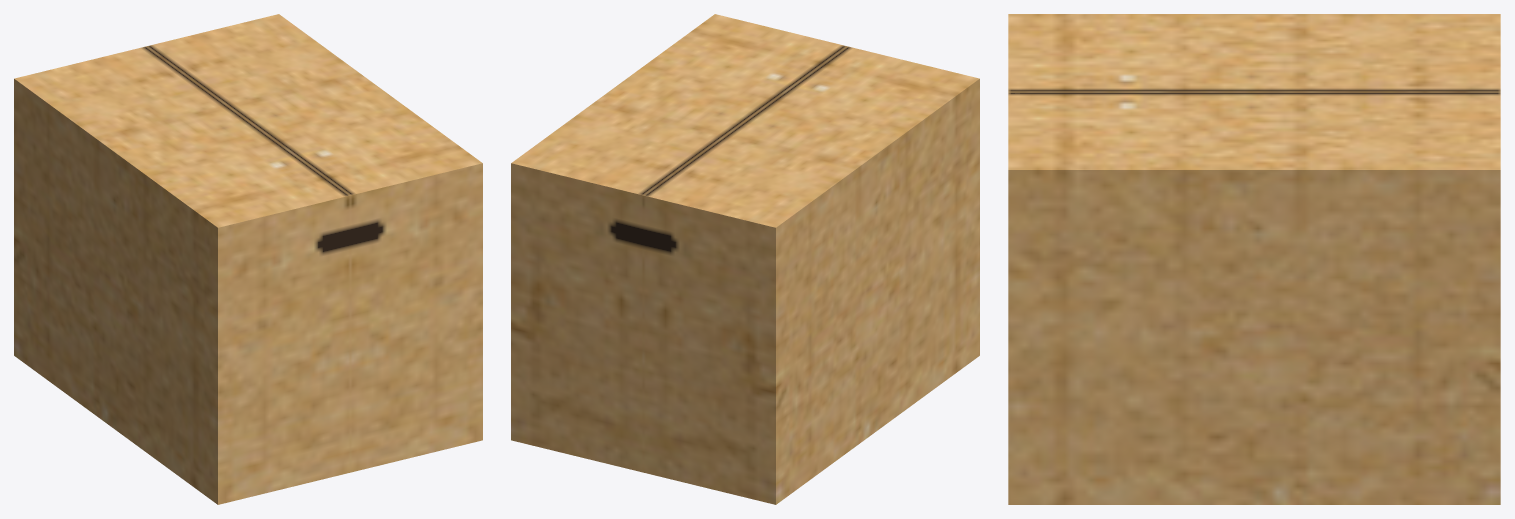
The model's file is danbo.fbx.
3 renders of one model, left to right at view 1: azimuth 30°, elevation 25°; view 2: azimuth 150°, elevation 25°; view 3: azimuth 270°, elevation 25°, orthographic. The views are drawn at different scales.
Visible parts, largest first — view 1: Cube; view 2: Cube; view 3: Cube.
Part boxes in pixels (left/top/right/bottom): Cube: left=14, top=14, right=482, bottom=504; Cube: left=511, top=14, right=979, bottom=504; Cube: left=1008, top=14, right=1500, bottom=504.
Size of the model in its own units: 30 by 30 by 40.
1 material, 1 textured.
